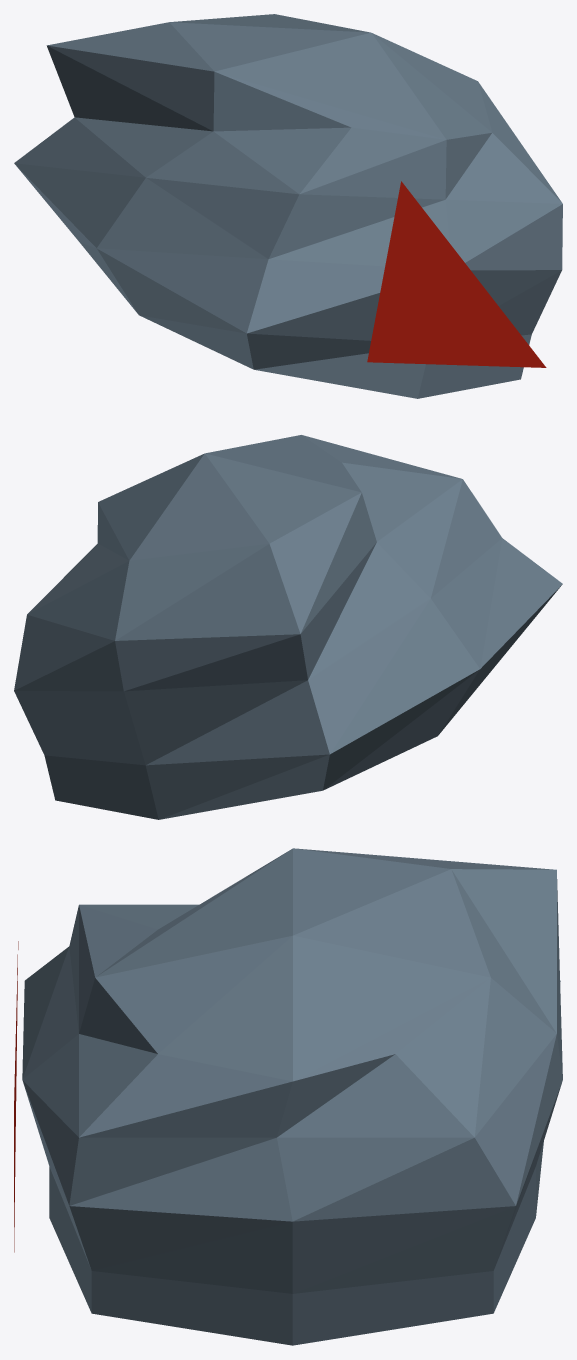
3 renders of one model, top to bottom at view 1: azimuth 30°, elevation 25°; view 2: azimuth 150°, elevation 25°; view 3: azimuth 270°, elevation 25°, orthographic. The views are drawn at different scales.
Size of the model in its own units: 0.3081 by 0.2324 by 0.319.
2 materials, 2 textured.
